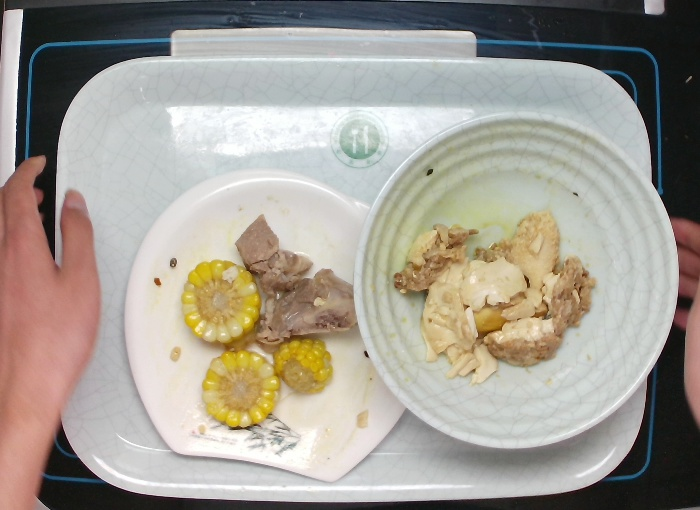JYsf-Da_Tang_Wan: (350, 108, 680, 449)
JYsf-Mian_Pan: (121, 166, 407, 482)
